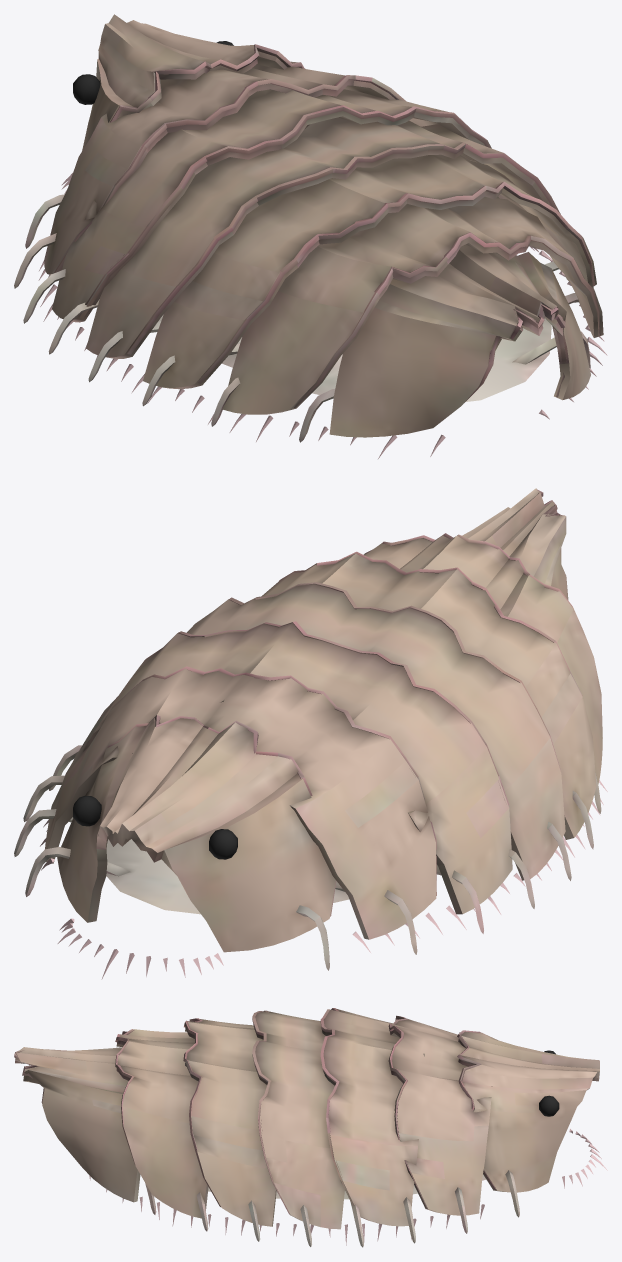
The model's file is fauna_ferracaris_juv.glb.
The picture shows the model from 3 angles, top to bottom: view 1: azimuth 30°, elevation 25°; view 2: azimuth 150°, elevation 25°; view 3: azimuth 270°, elevation 25°; orthographic projection. The views are drawn at different scales.
Visible parts, largest first — view 1: ferracaris_body; view 2: ferracaris_body; view 3: ferracaris_body.
Boxes of the visible parts, bbox=[...] form: ferracaris_body: bbox=[14, 14, 607, 458]; ferracaris_body: bbox=[14, 488, 607, 979]; ferracaris_body: bbox=[14, 1008, 607, 1247].
Bounding box in the file's own units: 0.2001 × 0.0812 × 0.3103.
5 materials, 3 textured.
